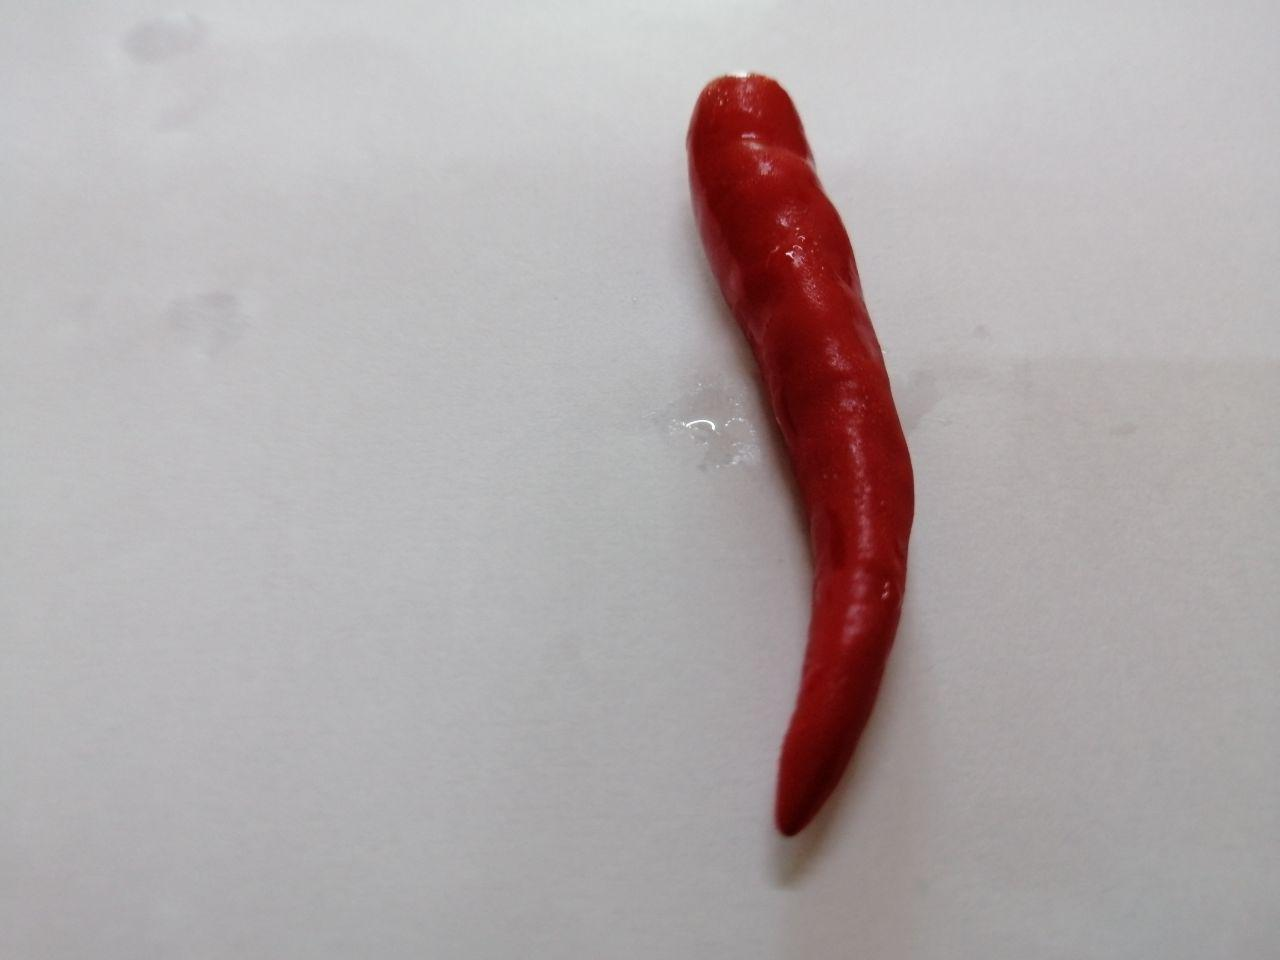lada merah: (637, 44, 935, 867)
